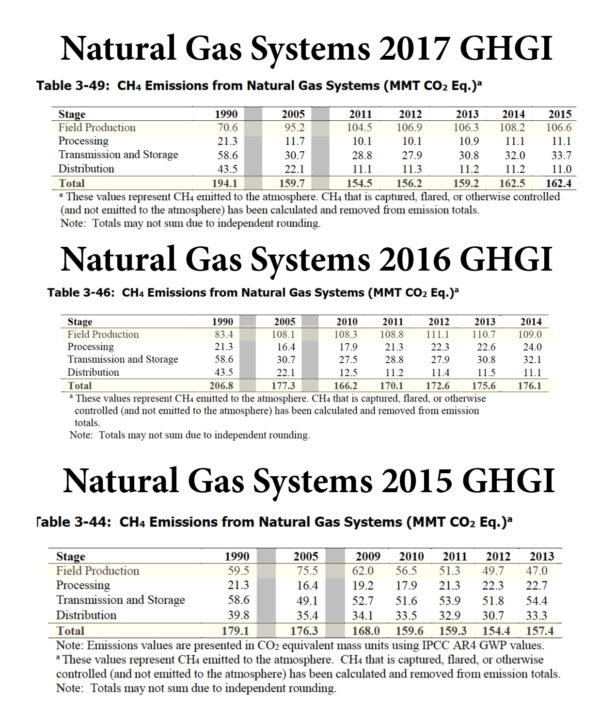fracking table: (30, 454, 565, 641), (34, 29, 581, 192), (38, 242, 556, 392)
